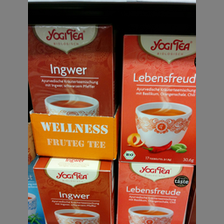tea: (121, 31, 196, 165), (28, 24, 116, 117), (33, 156, 115, 224), (115, 159, 196, 224)
